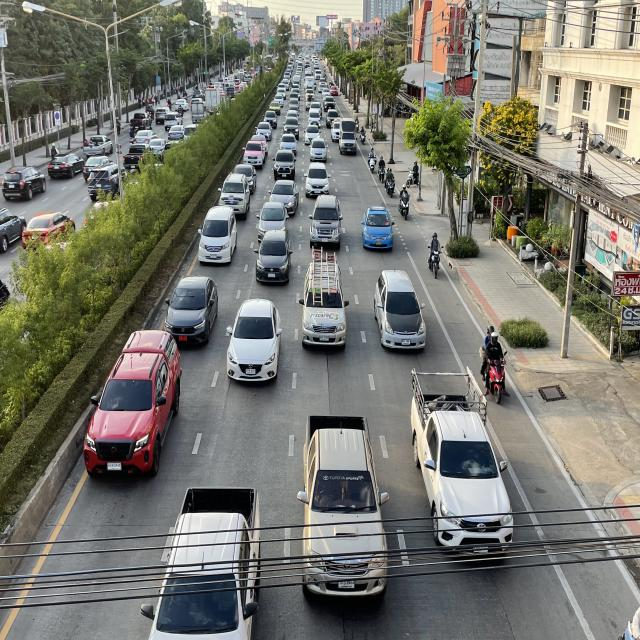bike: (478, 322, 511, 404), (427, 230, 444, 280), (398, 183, 410, 221), (406, 160, 421, 188), (384, 167, 396, 198), (368, 146, 377, 173), (377, 154, 385, 184)
car: (141, 484, 261, 640), (296, 412, 389, 603), (82, 329, 185, 481), (226, 297, 282, 388), (373, 268, 427, 354), (164, 276, 218, 346), (196, 206, 238, 266), (253, 229, 293, 286), (307, 194, 344, 248), (360, 205, 396, 251), (217, 173, 251, 220), (256, 201, 290, 242), (269, 178, 299, 218), (304, 162, 332, 196), (232, 163, 258, 194), (273, 149, 296, 180)
truck: (408, 365, 516, 557), (298, 247, 349, 352), (338, 117, 358, 156)
